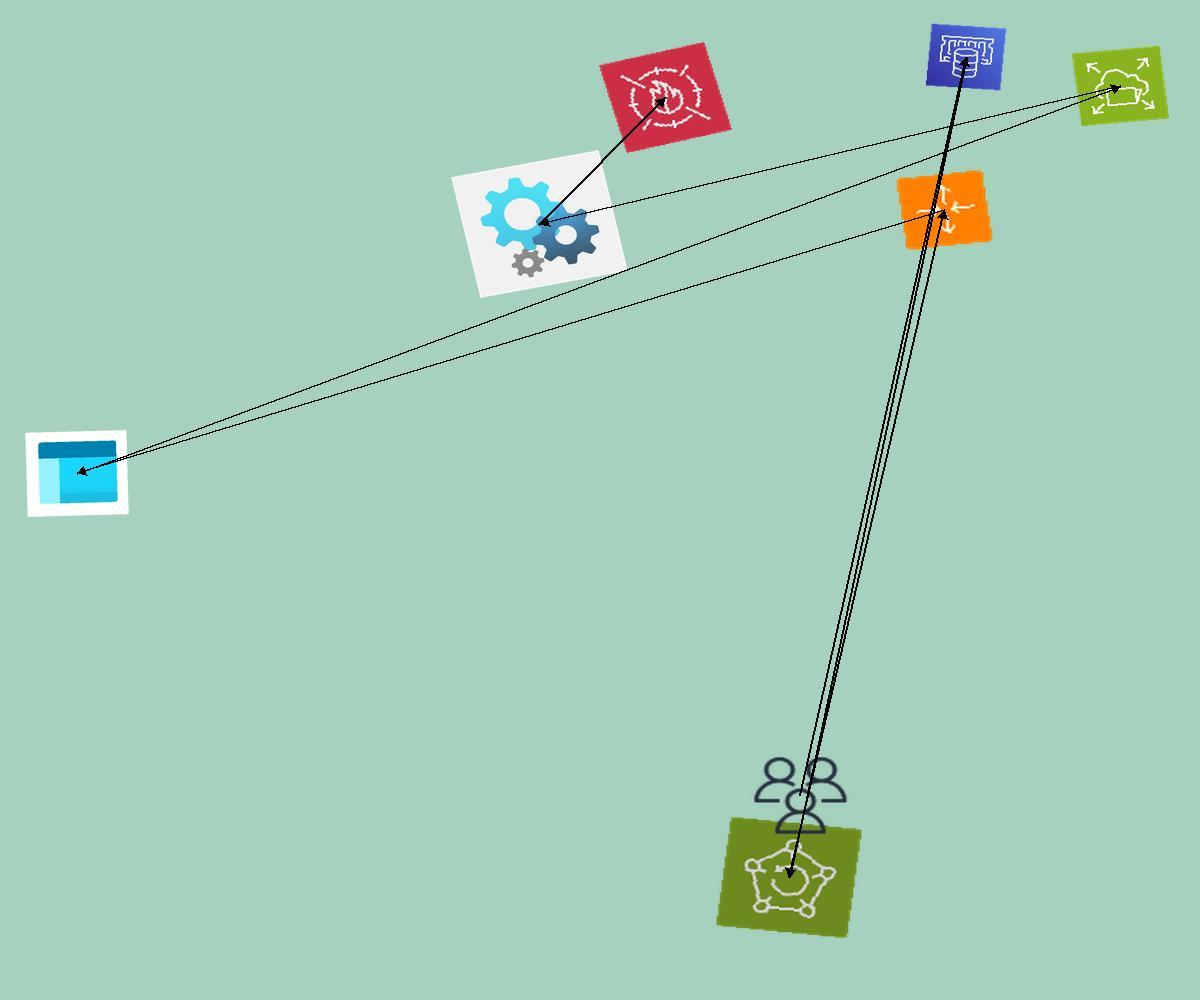AWS-Backup: (715, 816, 863, 939)
AWS-EFS: (1071, 45, 1170, 127)
AWS-ElastiCache: (925, 23, 1007, 91)
AWS-Res_Users: (748, 752, 853, 839)
AWS-Scaling-group: (895, 169, 994, 251)
AWS-WAF: (599, 42, 732, 153)
Azure_api: (451, 150, 628, 298)
Azure_management-portal: (25, 430, 129, 517)
